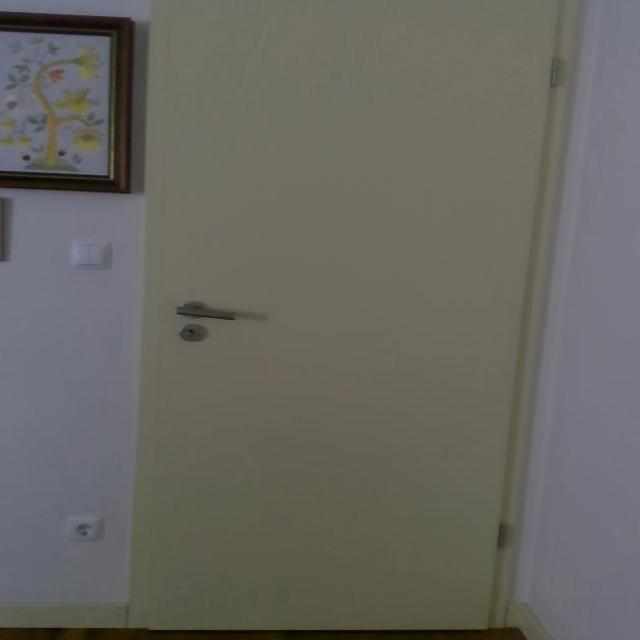door: (127, 0, 578, 632)
